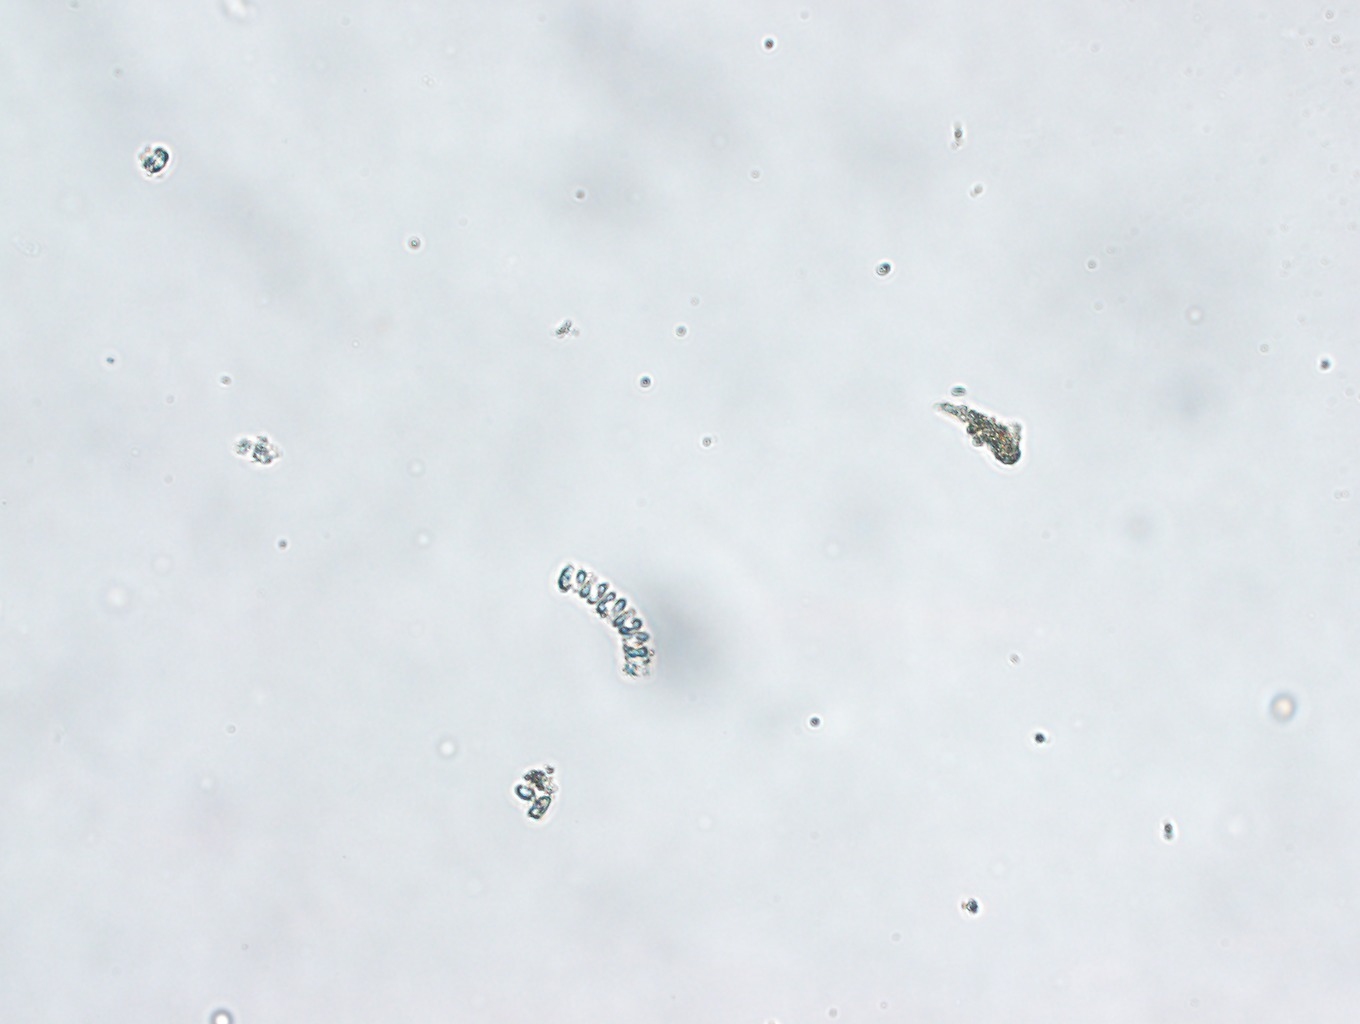skeletonema: (555, 557, 655, 681)
